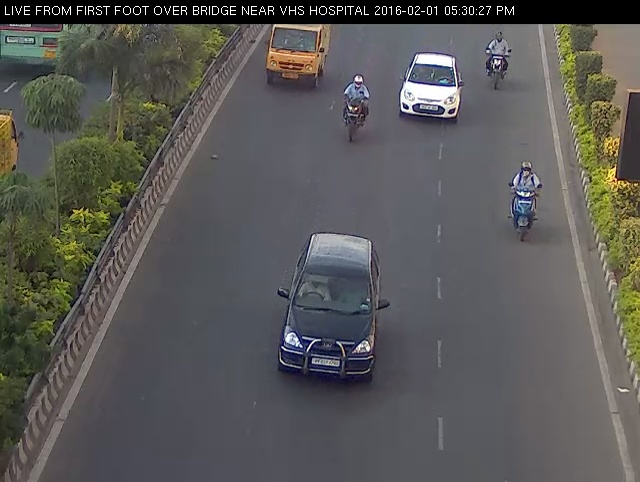Car: (274, 219, 389, 404), (398, 40, 464, 141), (254, 20, 339, 94)
Person: (495, 152, 553, 253), (332, 71, 378, 149), (476, 22, 519, 97)
